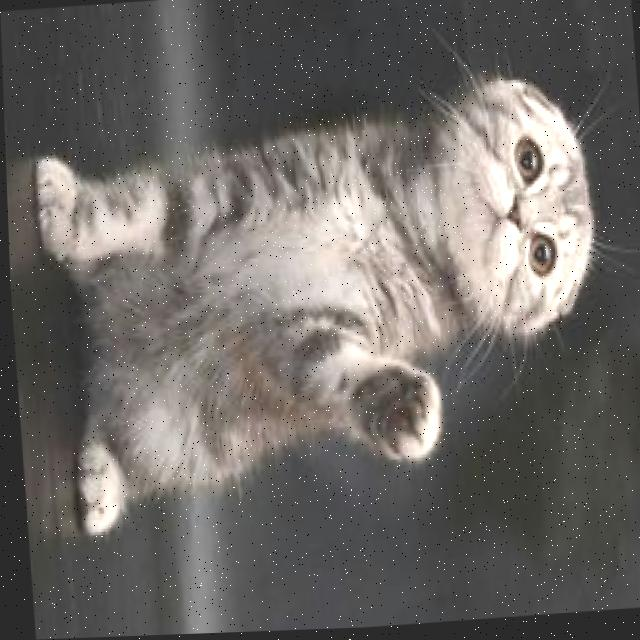Scottish Fold: (21, 69, 615, 546)
